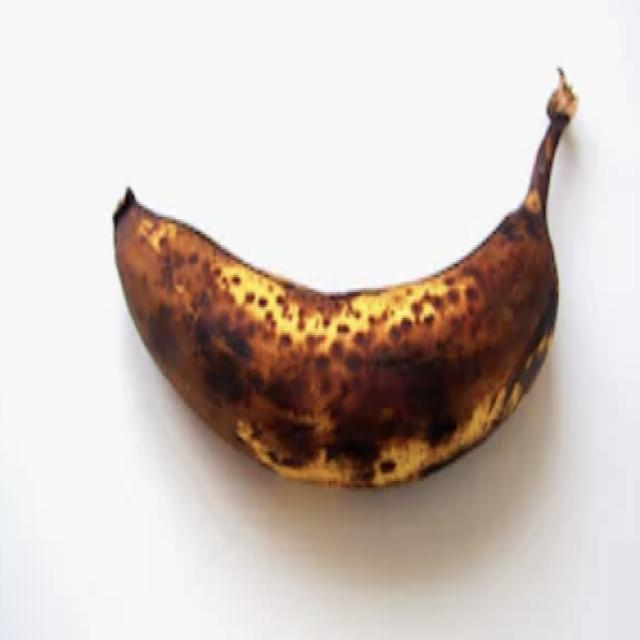Rotten: (99, 46, 585, 511)
